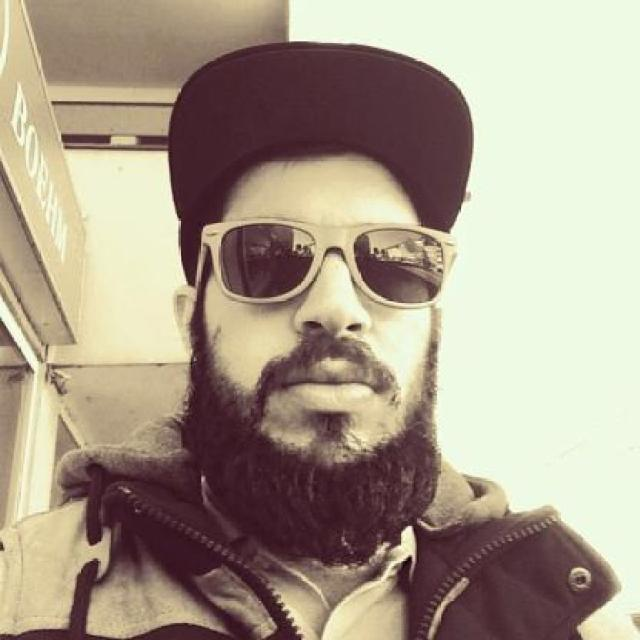face_nomask: (210, 205, 432, 428)
glasses: (193, 209, 470, 320)
head_nohelmet: (173, 42, 481, 193)
